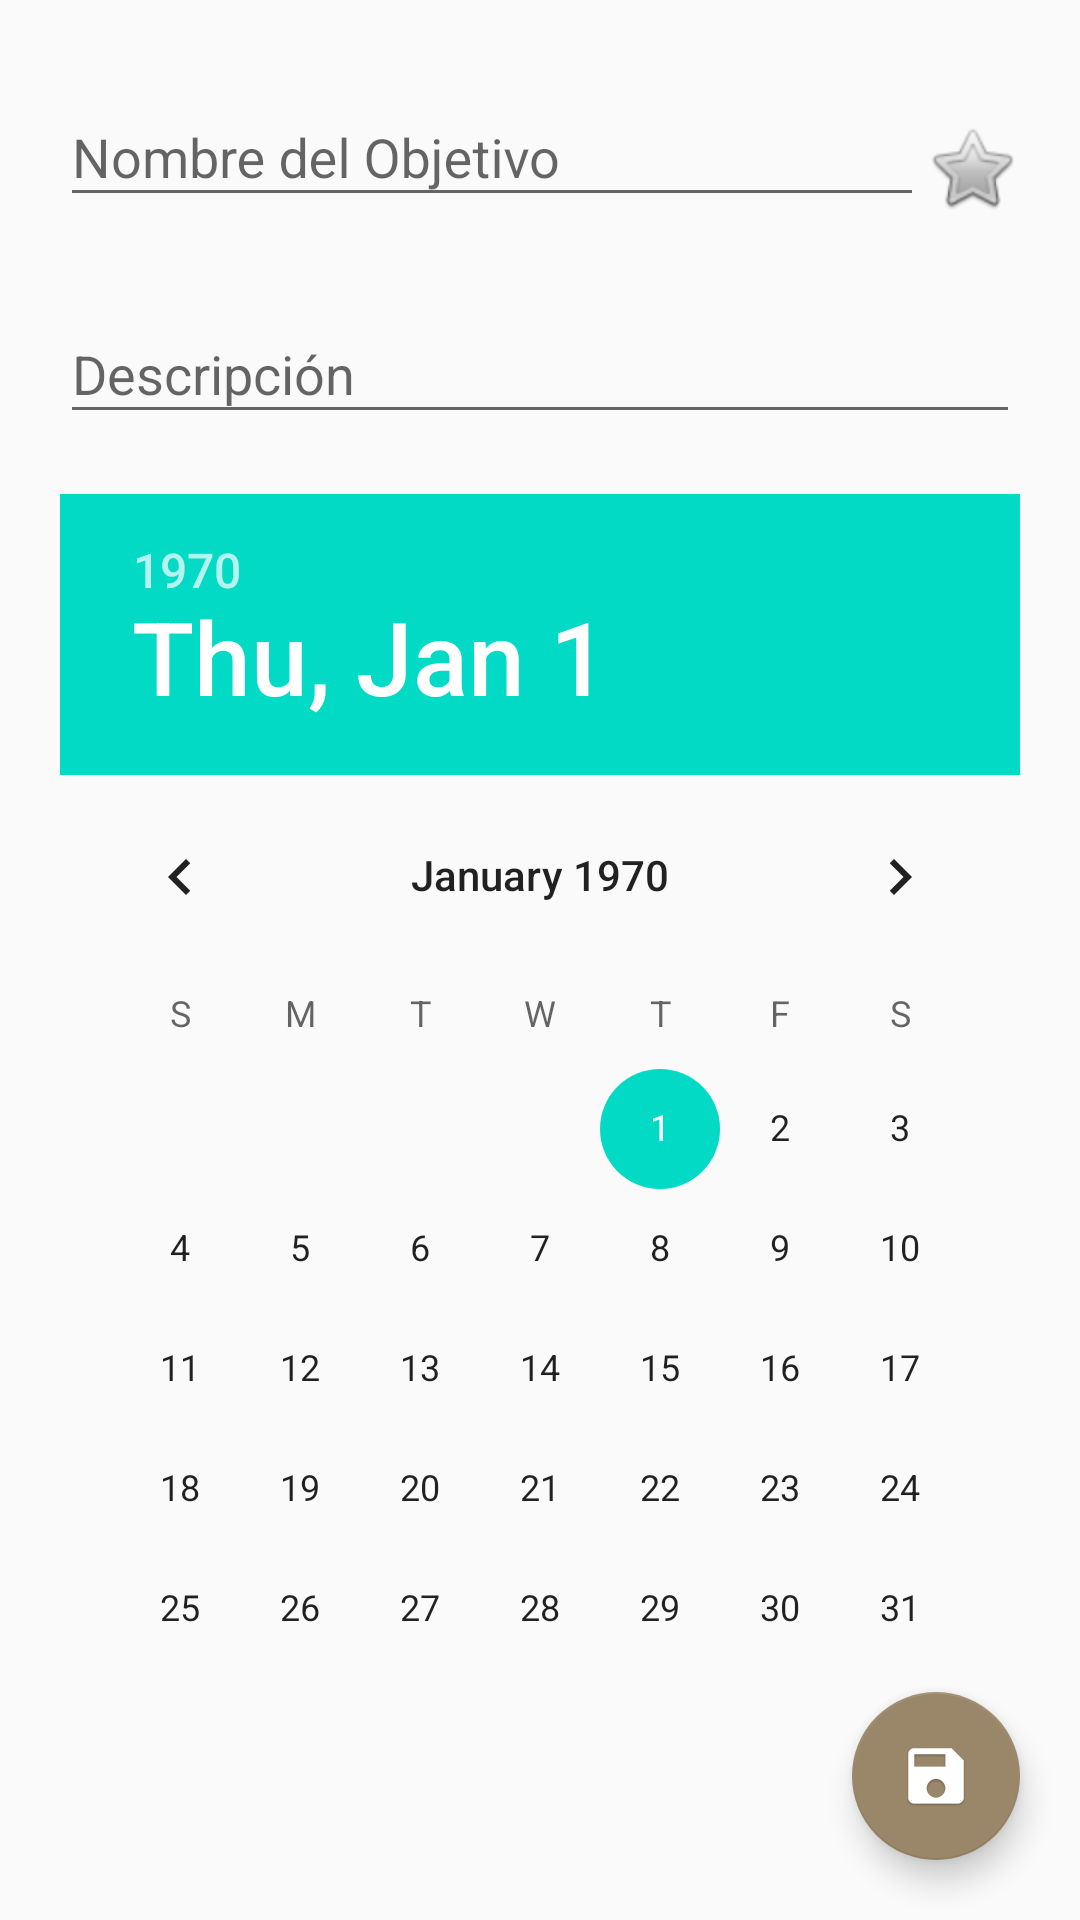

Point at icon controls on the screen. Image size 1080px×1920px, points as point (x, y).
star: point (973, 169)
